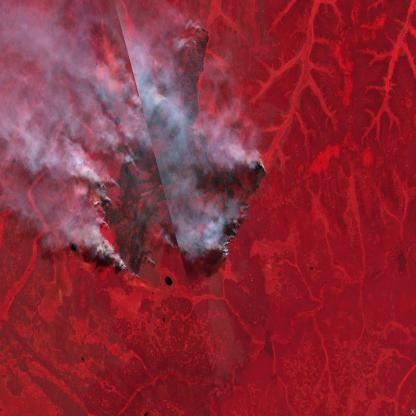fire: (81, 148, 176, 284), (208, 144, 270, 278), (156, 15, 213, 119)
